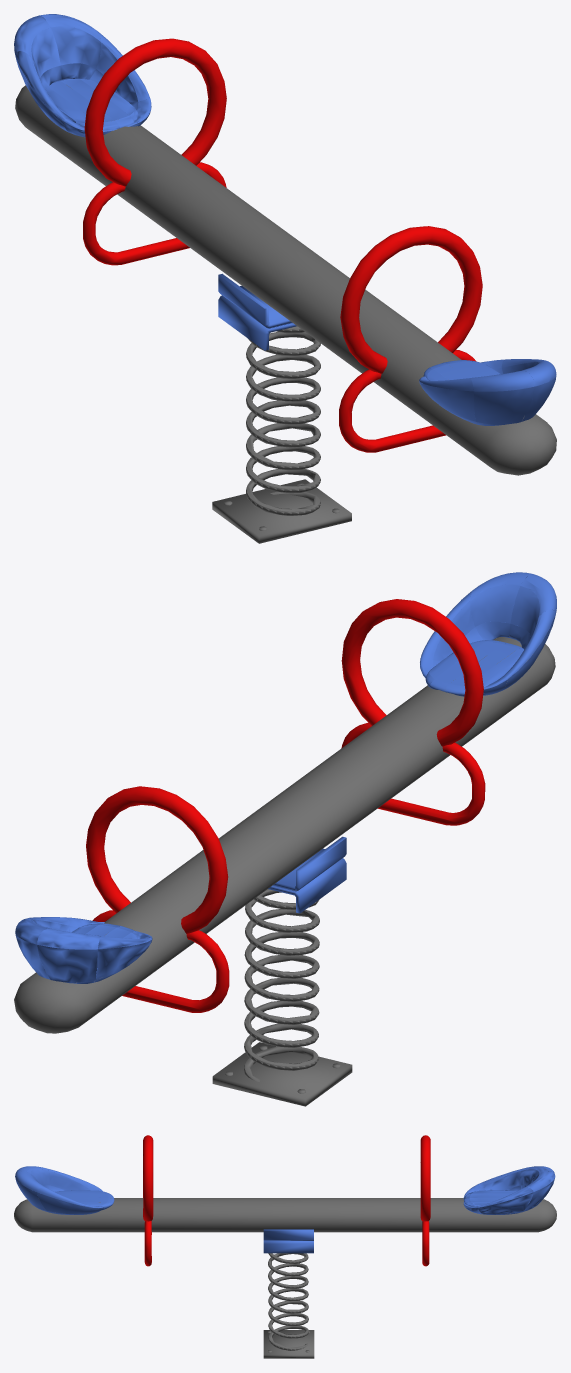
Rendered from seesaw.fbx.
The picture shows the model from 3 angles, top to bottom: view 1: azimuth 30°, elevation 25°; view 2: azimuth 150°, elevation 25°; view 3: azimuth 270°, elevation 25°; orthographic projection. The views are drawn at different scales.
Visible parts, largest first — view 1: Capsule001; view 2: Capsule001; view 3: Capsule001.
Part boxes in pixels (x1,y1,x2,y2): Capsule001: (14, 14, 556, 543); Capsule001: (14, 572, 556, 1106); Capsule001: (14, 1135, 556, 1358).
Size of the model in its own units: 33.94 by 86.72 by 206.
